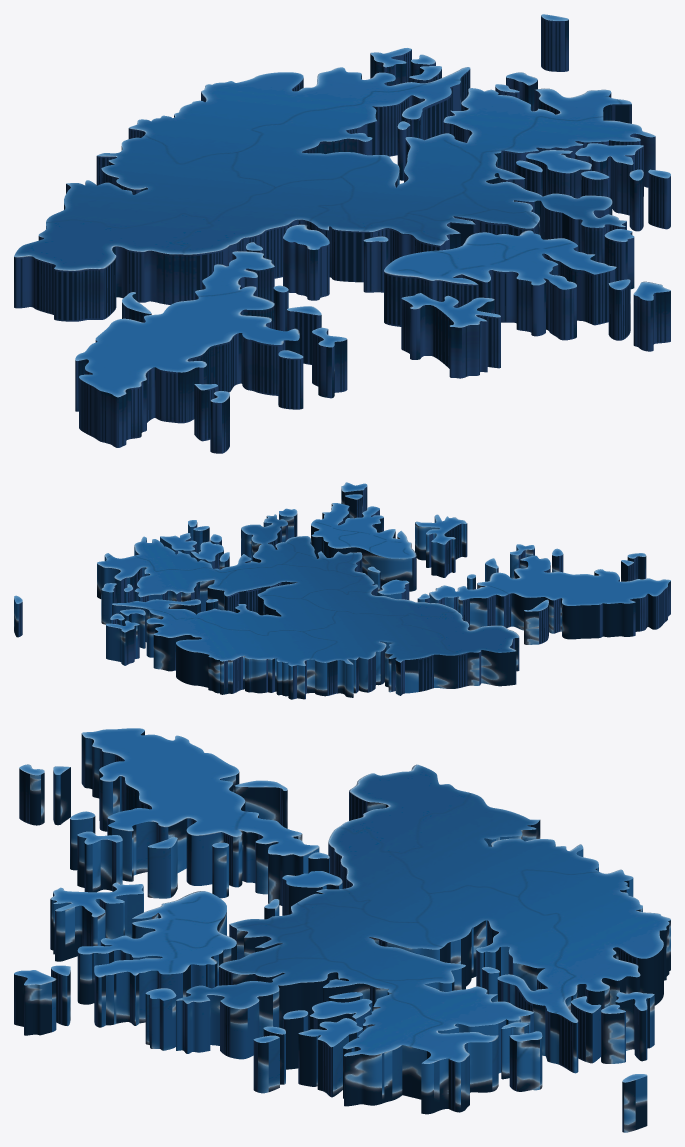
File: HK_MAP_2014.obj
3 views of the same model, one above another, from view 1: azimuth 30°, elevation 25°; view 2: azimuth 150°, elevation 25°; view 3: azimuth 270°, elevation 25° (orthographic). The views are drawn at different scales.
Visible parts, largest first — view 1: Shape1; view 2: Shape1; view 3: Shape1.
Part boxes in pixels (x1,y1,x2,y2): Shape1: (14, 14, 670, 453); Shape1: (14, 482, 670, 699); Shape1: (14, 728, 670, 1132).
Size of the model in its own units: 313 by 20.66 by 245.
Materials: 1 (1 with a texture image).
